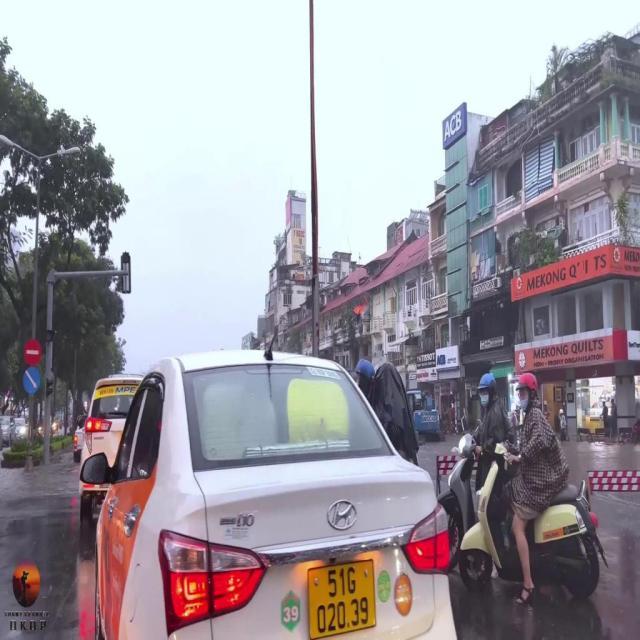cam_xe_di_nguoc_chieu: (23, 339, 42, 366)
huong_phai_di_vuot_chuong_ngai_vat_phai: (22, 364, 42, 396)
